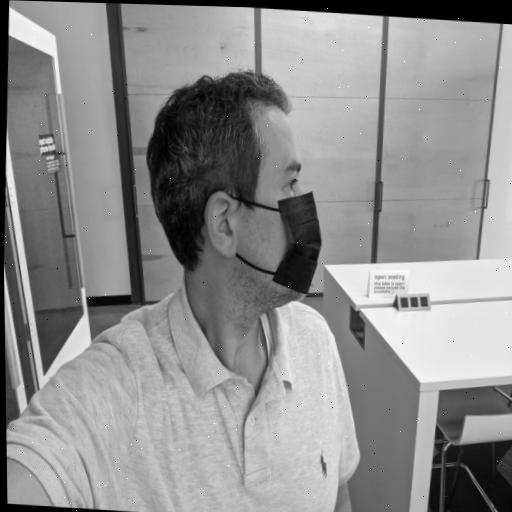mask: (197, 91, 328, 310)
